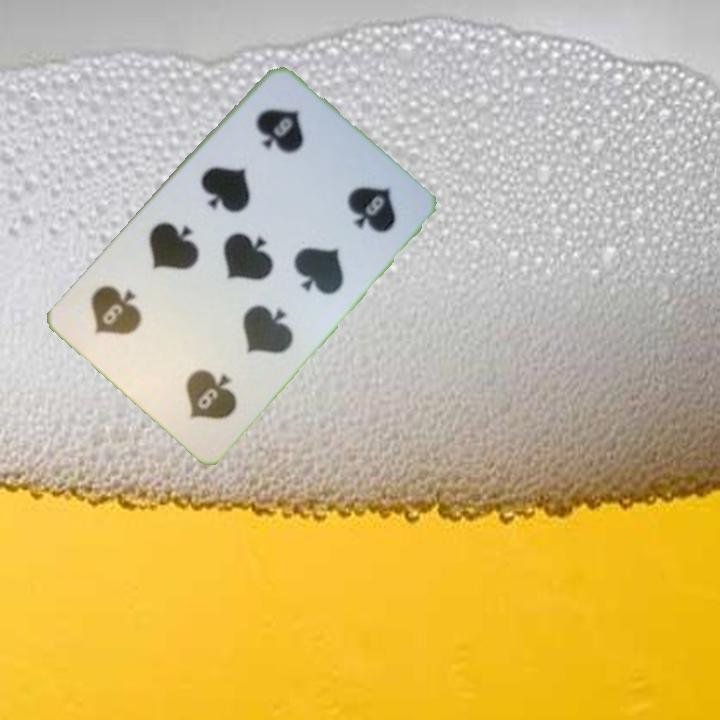s_9.png: (222, 79, 351, 208), (135, 318, 265, 446)
